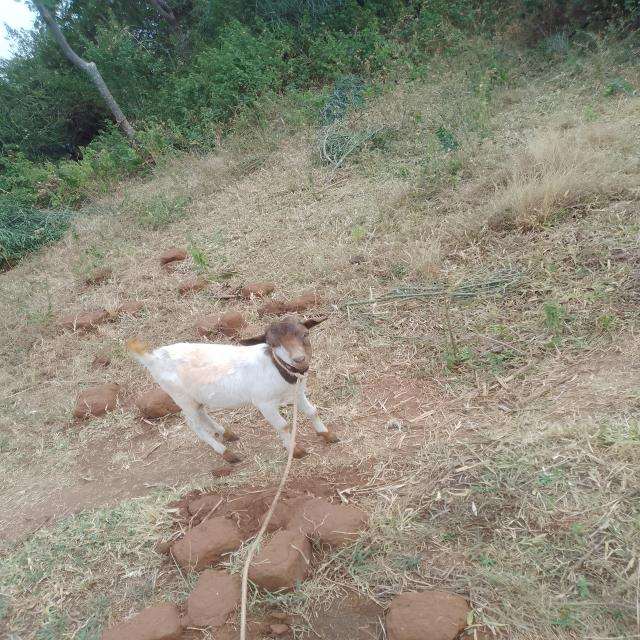goat: (103, 288, 387, 473)
